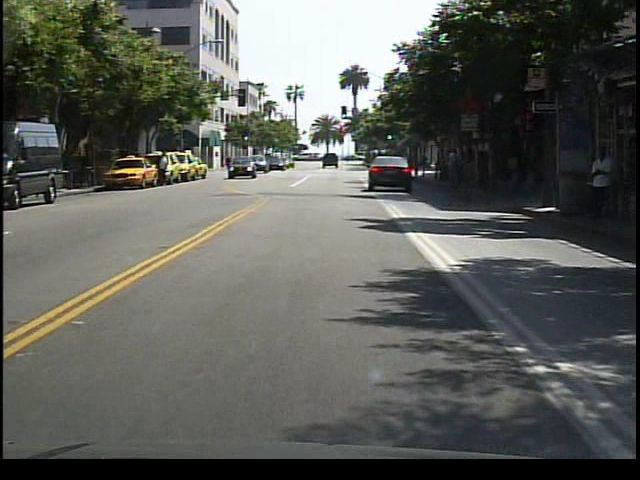person: (582, 142, 619, 227), (156, 150, 173, 190)
